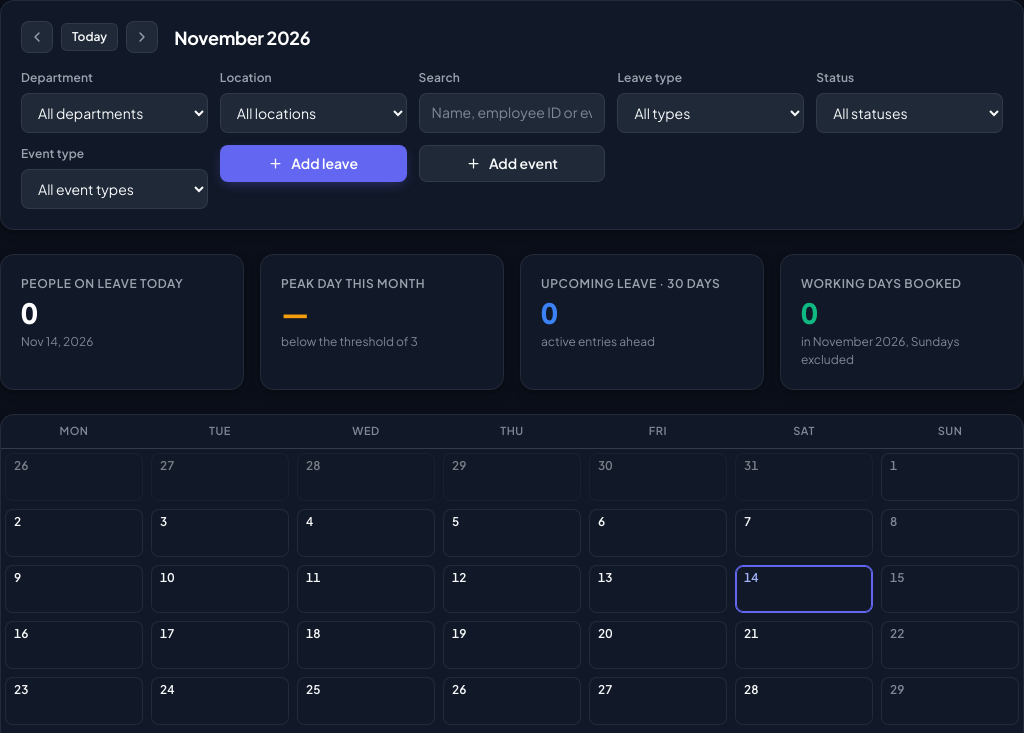
Test: PlannerSection › opens the modal from Add leave and saves a valid plan
Click the button "Add leave" at (313, 163), box [220,145,407,182]
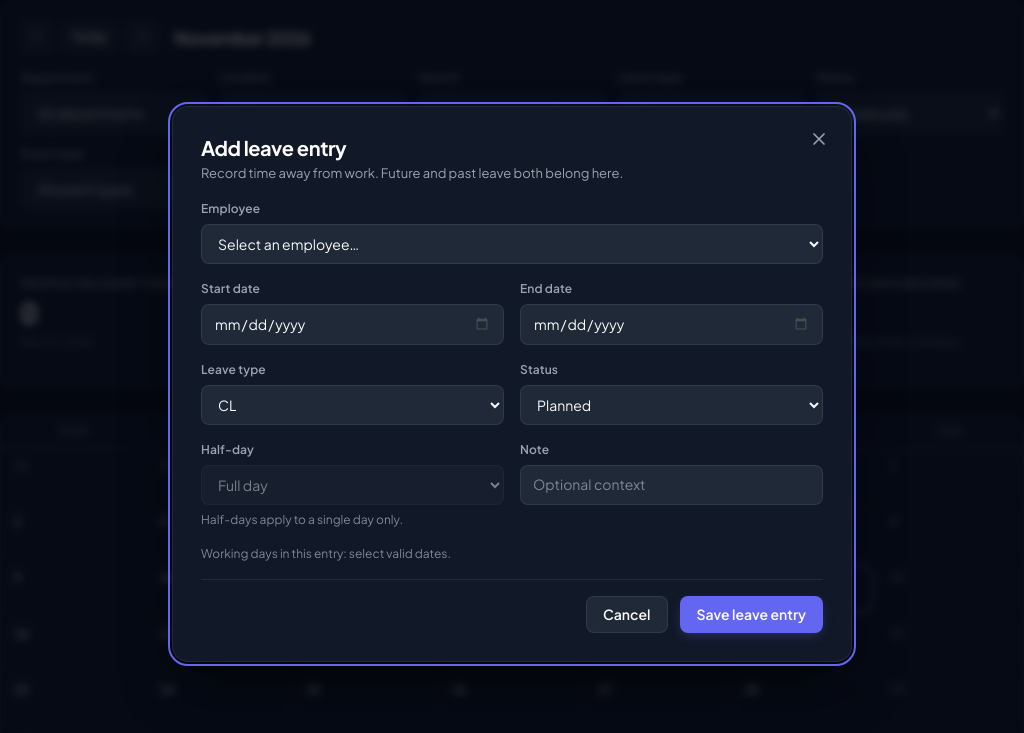
Select "Ravi Kumar (EMP-A)" in the dropdown labelled "Employee" at (512, 244), box [201,224,823,264]
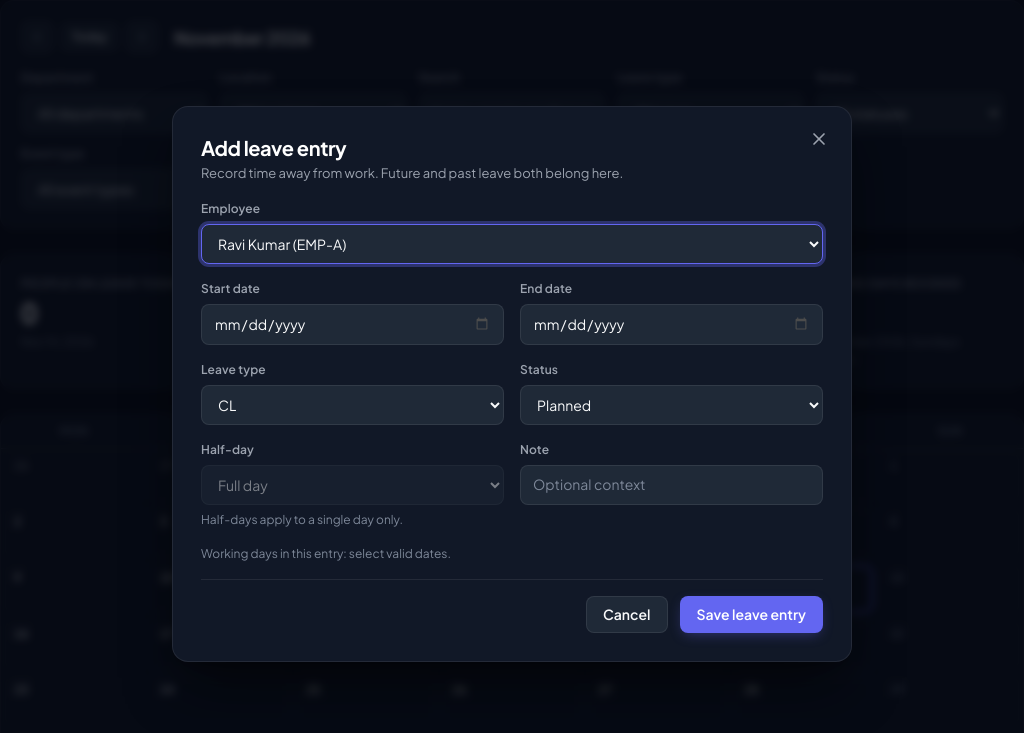
Type "2026-11-10" into the date field labelled "Start date" at (352, 324), box [201,304,504,345]
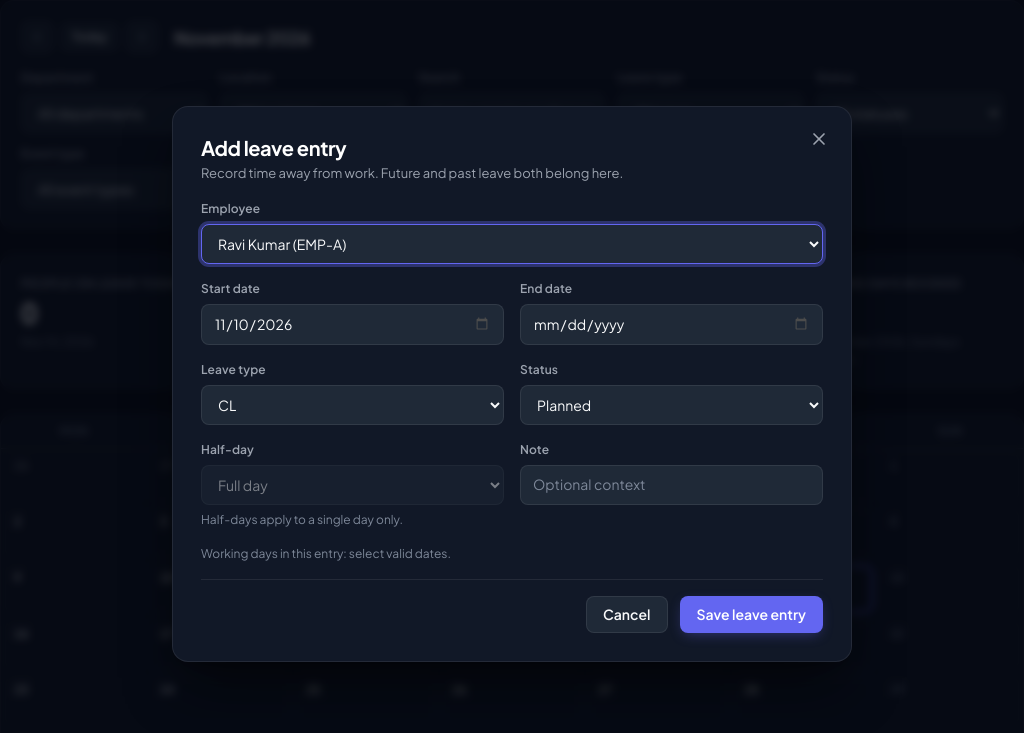
Type "2026-11-12" into the date field labelled "End date" at (672, 324), box [520,304,823,345]
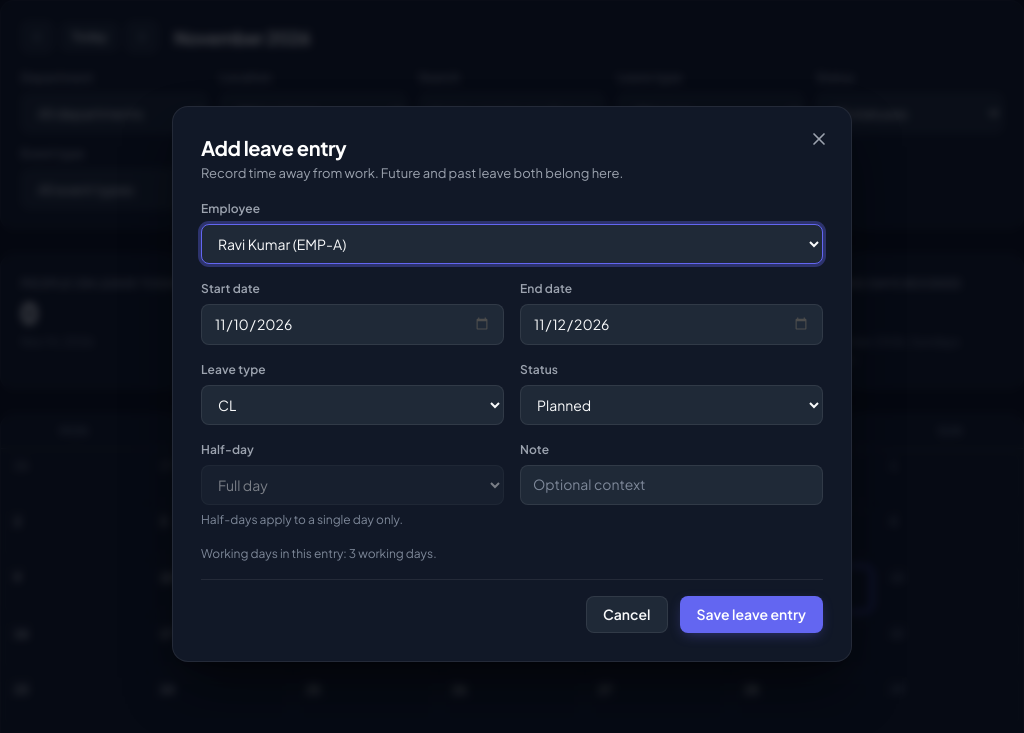
Click the button "Save leave entry" at (751, 615), box [680,596,823,633]
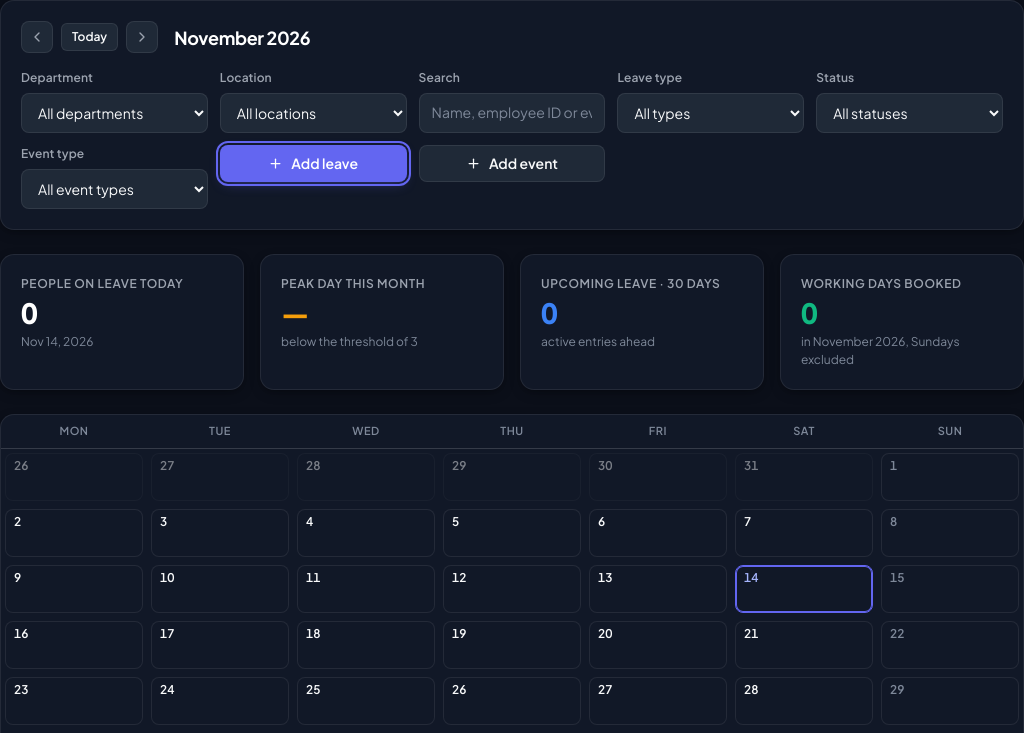
Check: the dialog is gone
